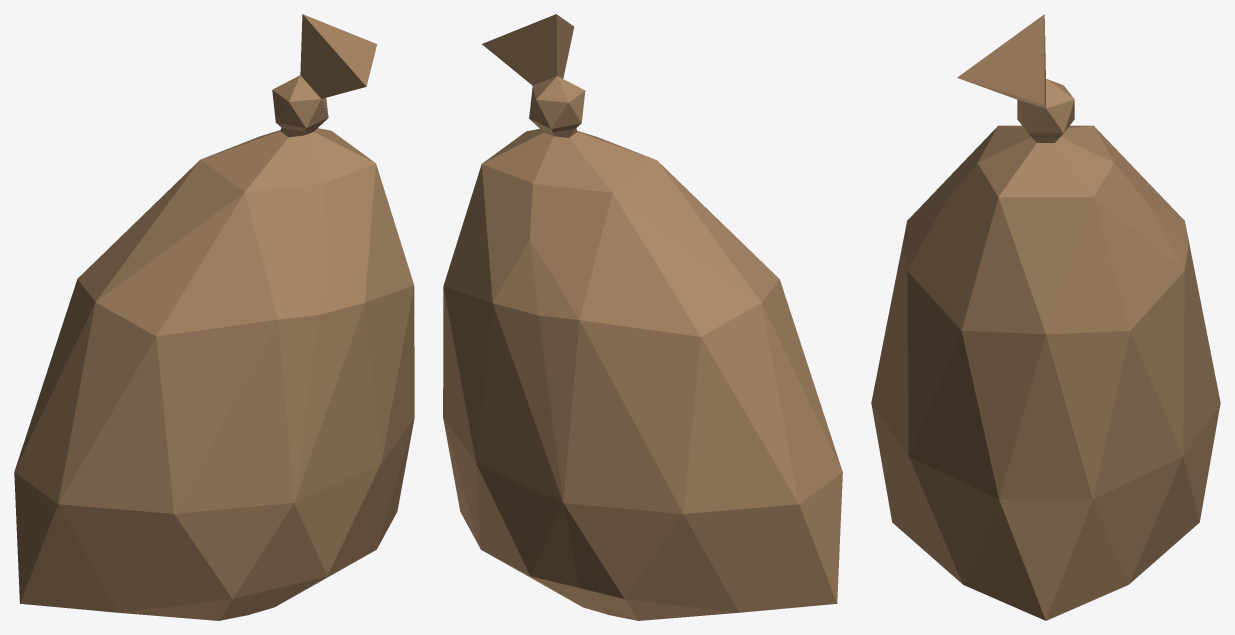
Rendered from sack_1.fbx.
3 renders of one model, left to right at view 1: azimuth 30°, elevation 25°; view 2: azimuth 150°, elevation 25°; view 3: azimuth 270°, elevation 25°, orthographic. The views are drawn at different scales.
Visible parts, largest first — view 1: sack; view 2: sack; view 3: sack.
Boxes of the visible parts, <box> form: sack: <box>14,14,414,620</box>; sack: <box>443,14,842,620</box>; sack: <box>871,14,1220,620</box>.
Size of the model in its own units: 227 by 315 by 169.
